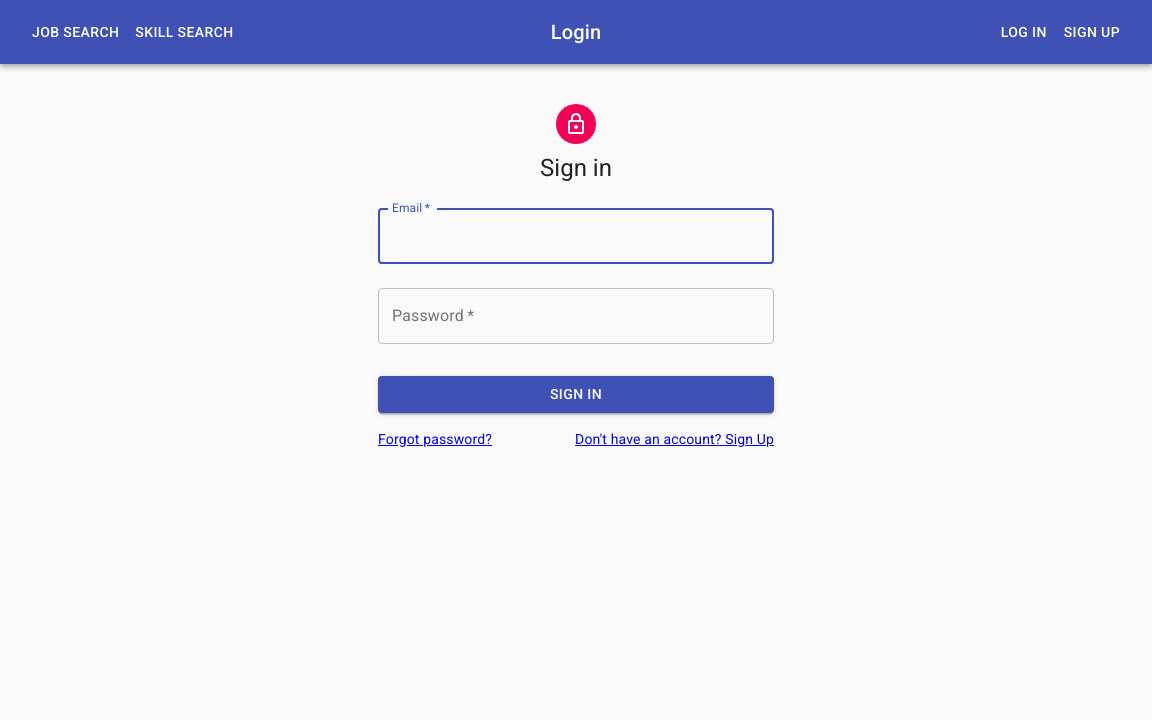
Test: Load profile educations › Load educations profile failure
In the field with id "email": (576, 236) [378,208,774,264], type "email@email.com"
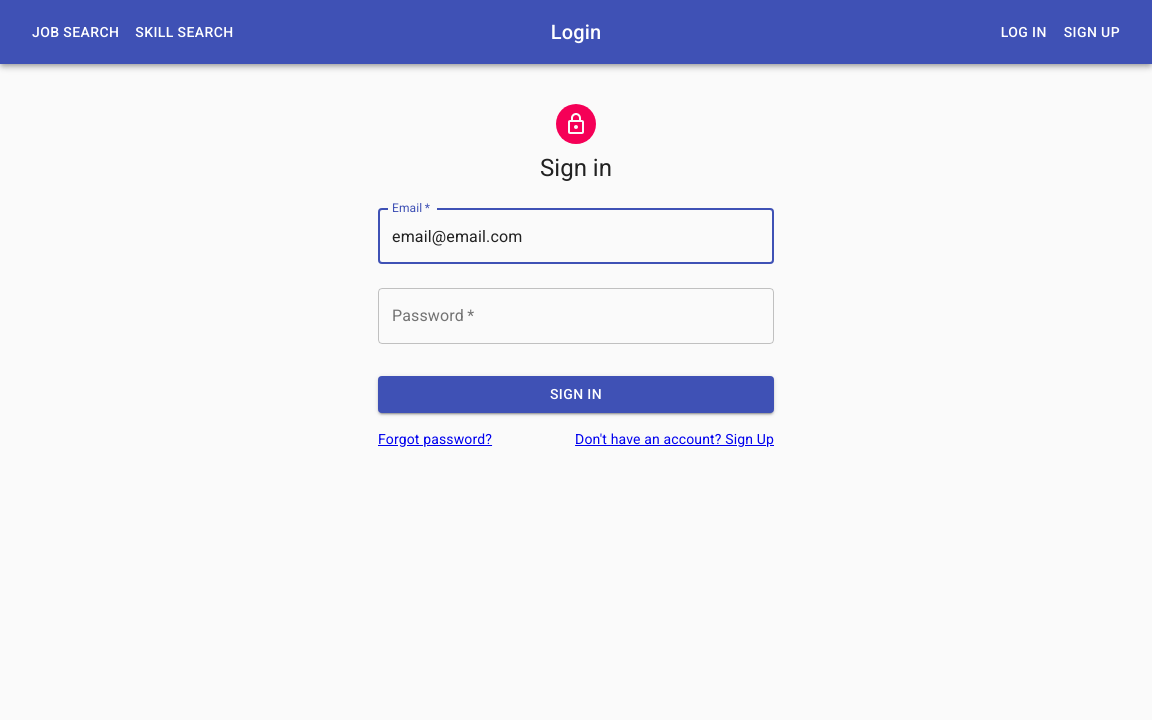
In the password field labelled "Password *": (576, 316) [378,288,774,344], type "password"
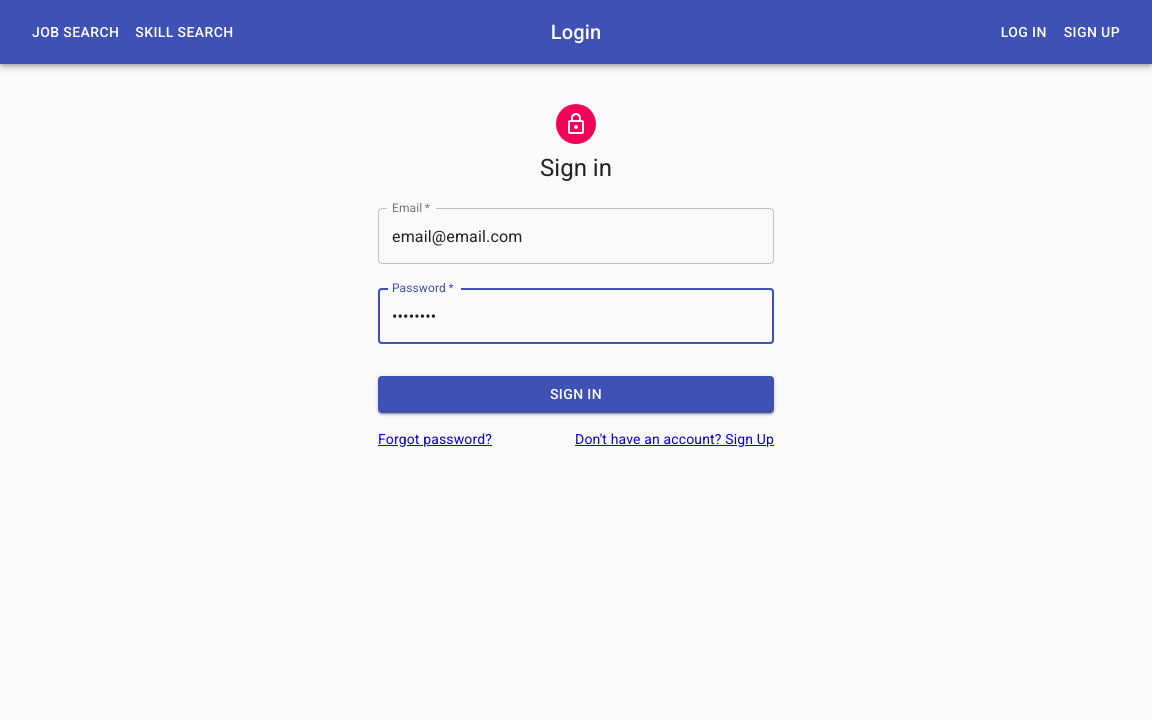
Click the button with id "submit": (576, 395) [378,376,774,413]
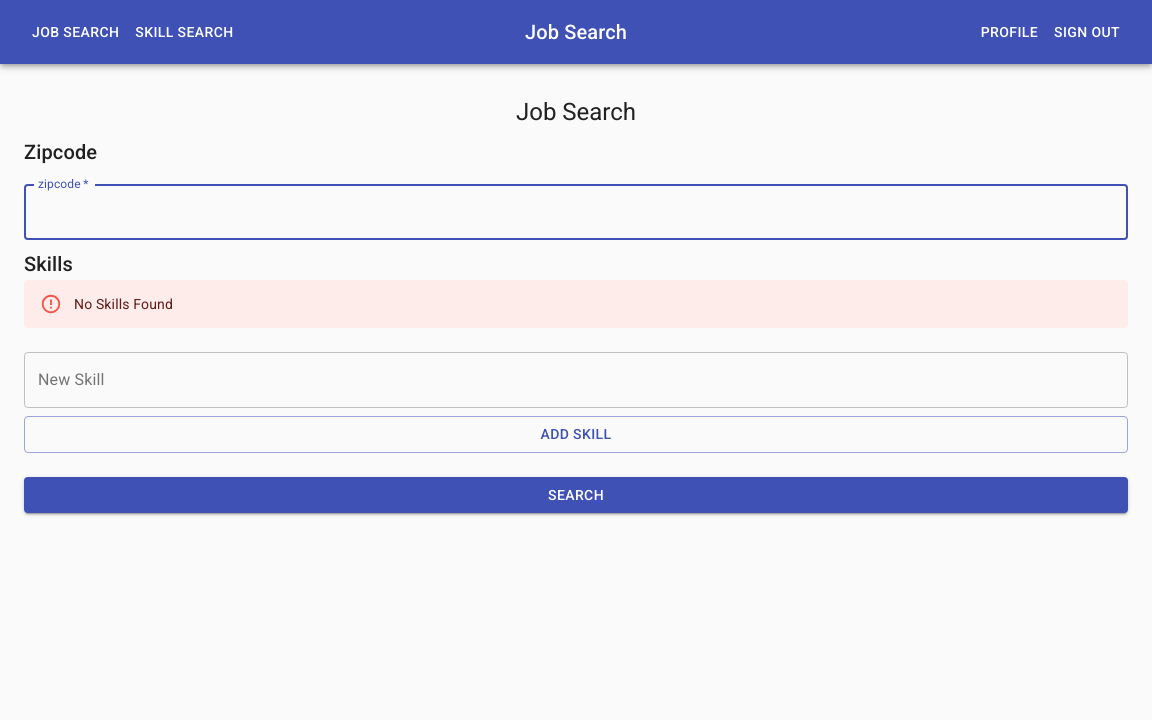
Click the button "Profile": (1010, 32) [981,24,1038,40]
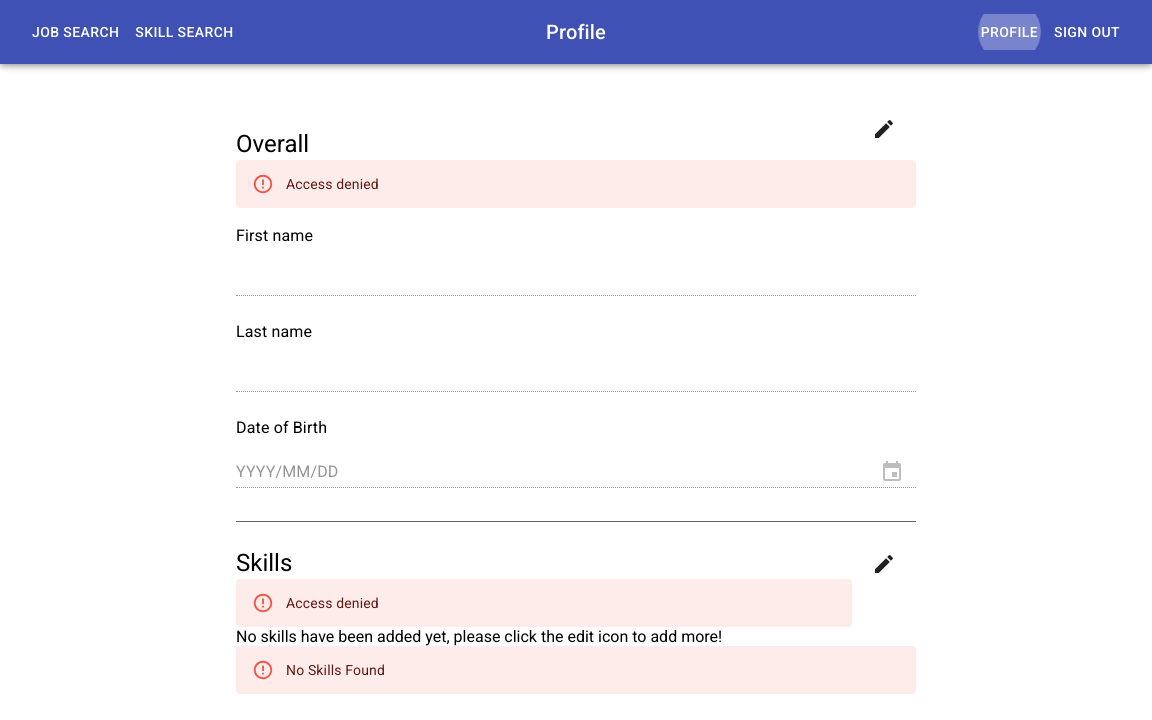
Expected: the heading with id "navBarTitle" reads "Profile", [546,20,606,44]
Expected: the text "Access denied" below "Overall" is shown, [286,176,379,192]
